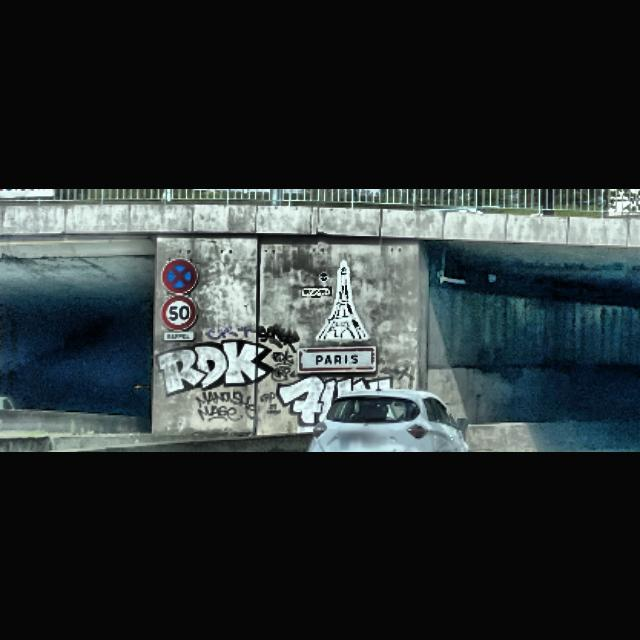speed_50: (160, 293, 198, 331)
